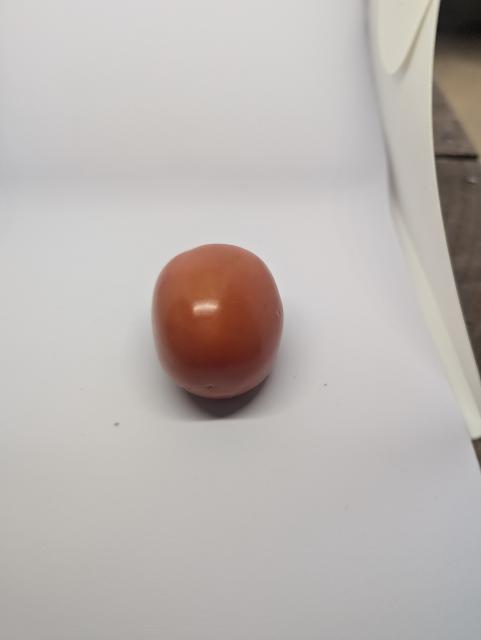red: (134, 233, 319, 417)
